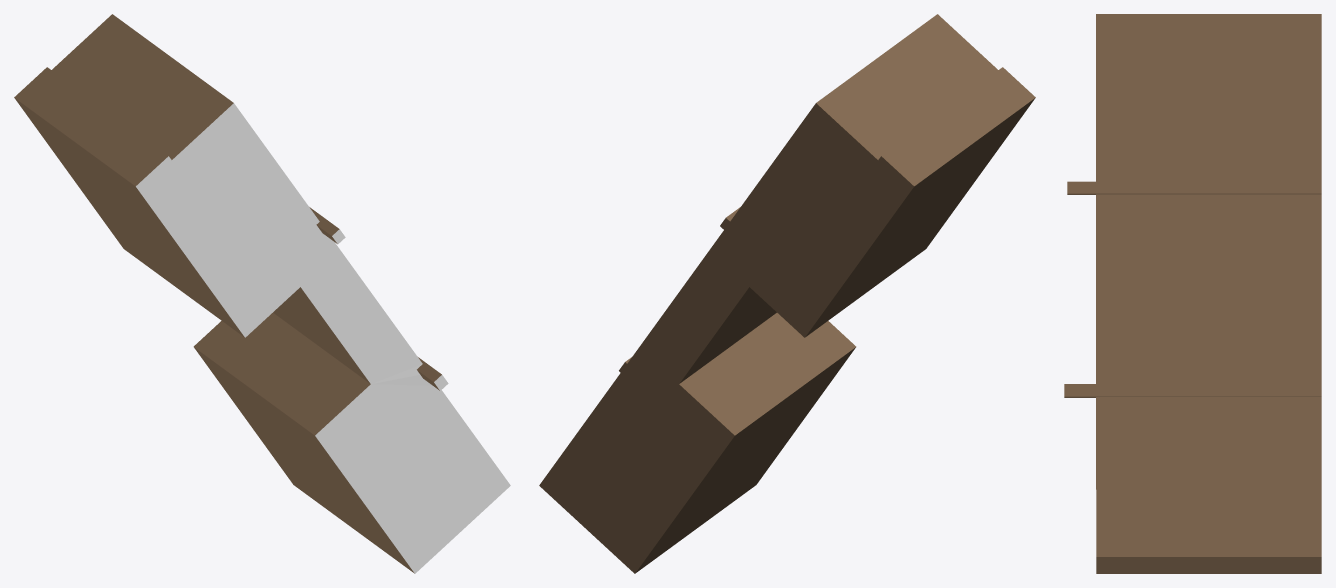
3 views of the same model, side by side, from view 1: azimuth 30°, elevation 25°; view 2: azimuth 150°, elevation 25°; view 3: azimuth 270°, elevation 25° (orthographic). The views are drawn at different scales.
Visible parts, largest first — view 1: City_PC-28738; view 2: City_PC-28738; view 3: City_PC-28738.
Part boxes in pixels (x1,y1,x2,y2): City_PC-28738: [14, 14, 510, 573]; City_PC-28738: [539, 14, 1035, 573]; City_PC-28738: [1064, 14, 1321, 573].
Size of the model in its own units: 2429 by 3187 by 1557.
